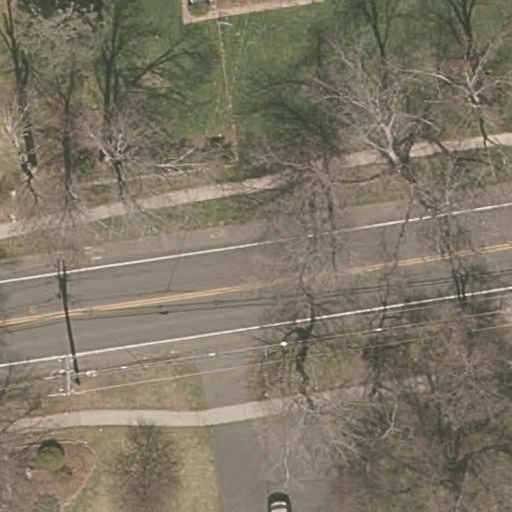DT: (55, 351, 79, 396)
